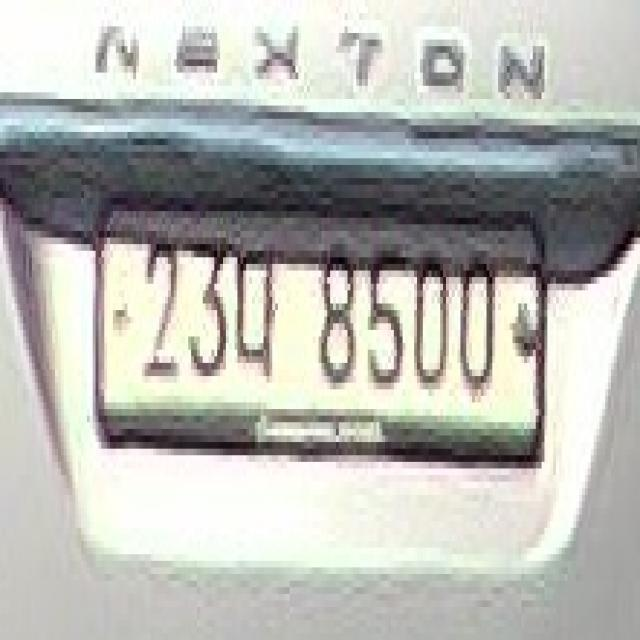0: (458, 241, 505, 412), (411, 245, 454, 396)
2: (138, 222, 181, 387)
3: (185, 229, 232, 390)
5: (366, 237, 406, 400)
8: (314, 230, 359, 397)
da: (236, 236, 285, 392)
license_plate: (97, 205, 544, 435)
